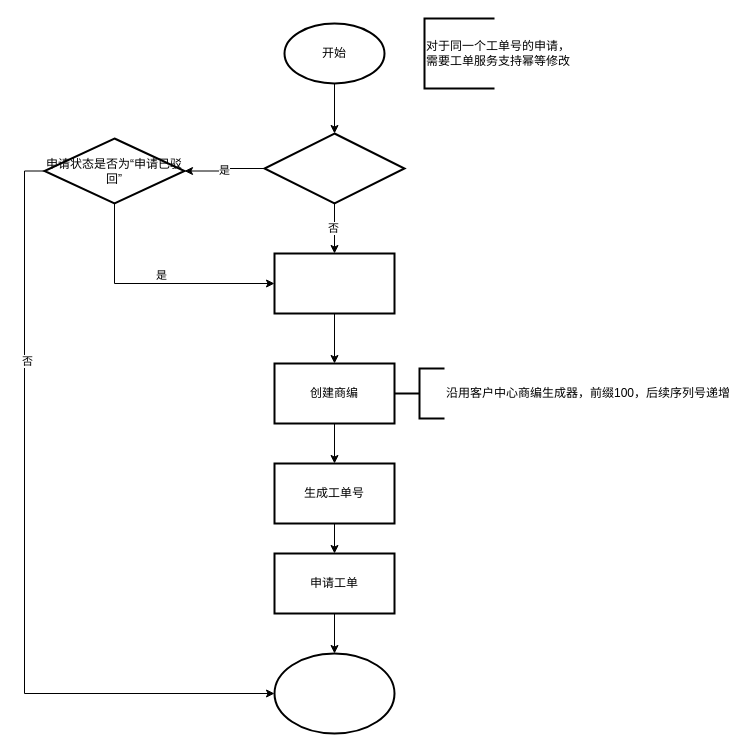
Image size: 748x751. Some labels were removed from this diagram. Each missing label, with the centre of its shape:
商户校验，黑名单校验，产品校验: pixel 334 283
根据请求号查询入网记录是否存在: pixel 334 168
结束: pixel 334 693
